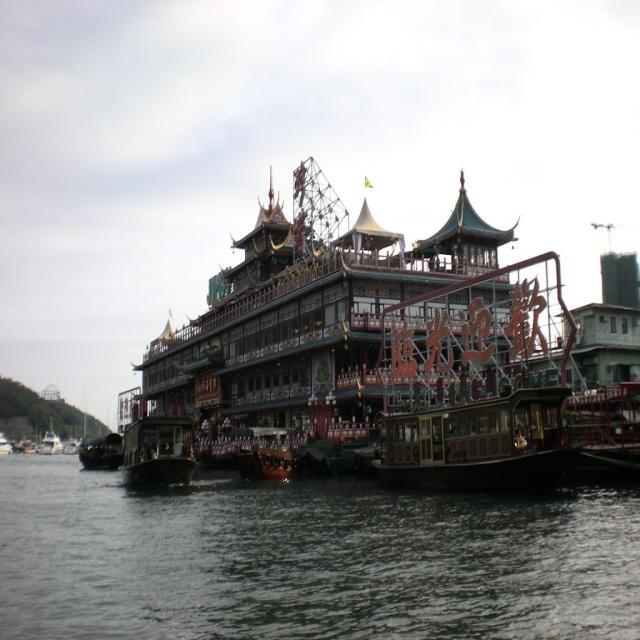boat: (364, 405, 576, 498), (119, 422, 196, 487), (234, 423, 296, 495), (80, 429, 126, 471), (41, 427, 60, 459)
